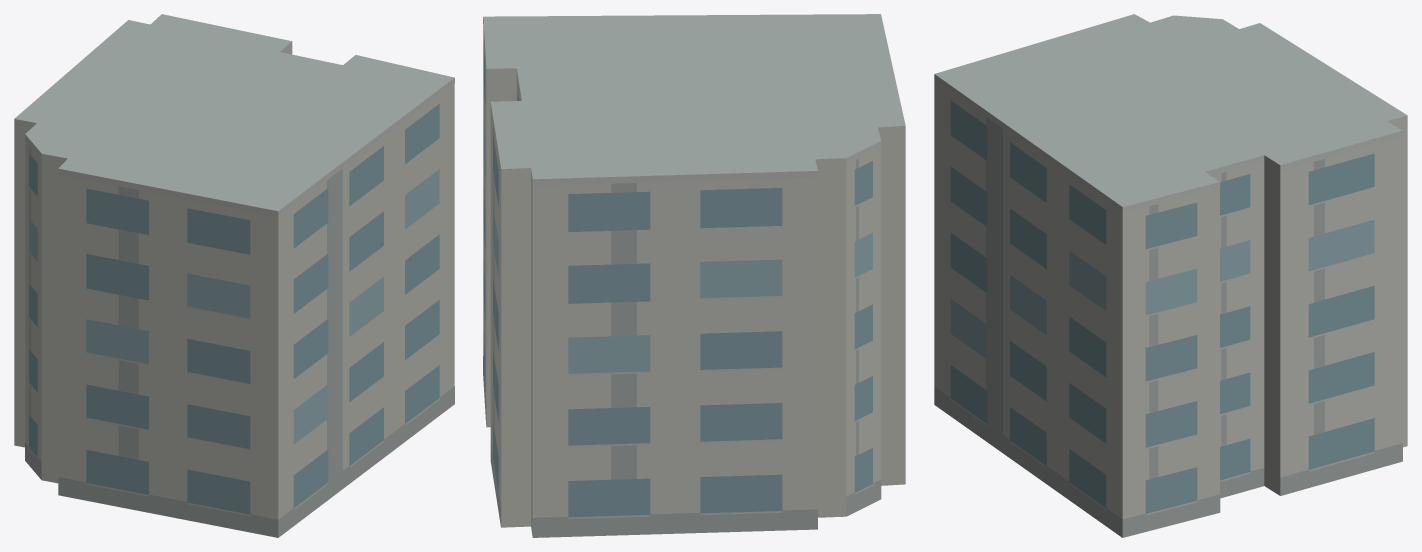
Rendered from survey-upis-33022201.glb.
3 views of the same model, side by side, from view 1: azimuth 30°, elevation 25°; view 2: azimuth 150°, elevation 25°; view 3: azimuth 270°, elevation 25° (orthographic). The views are drawn at different scales.
Visible parts, largest first — view 1: survey-upis-33022201.tmp; view 2: survey-upis-33022201.tmp; view 3: survey-upis-33022201.tmp.
Part boxes in pixels (left/top/right/bottom): survey-upis-33022201.tmp: left=14, top=14, right=454, bottom=537; survey-upis-33022201.tmp: left=483, top=14, right=905, bottom=537; survey-upis-33022201.tmp: left=934, top=14, right=1407, bottom=537.
Size of the model in its own units: 16.53 by 13.2 by 17.12.
